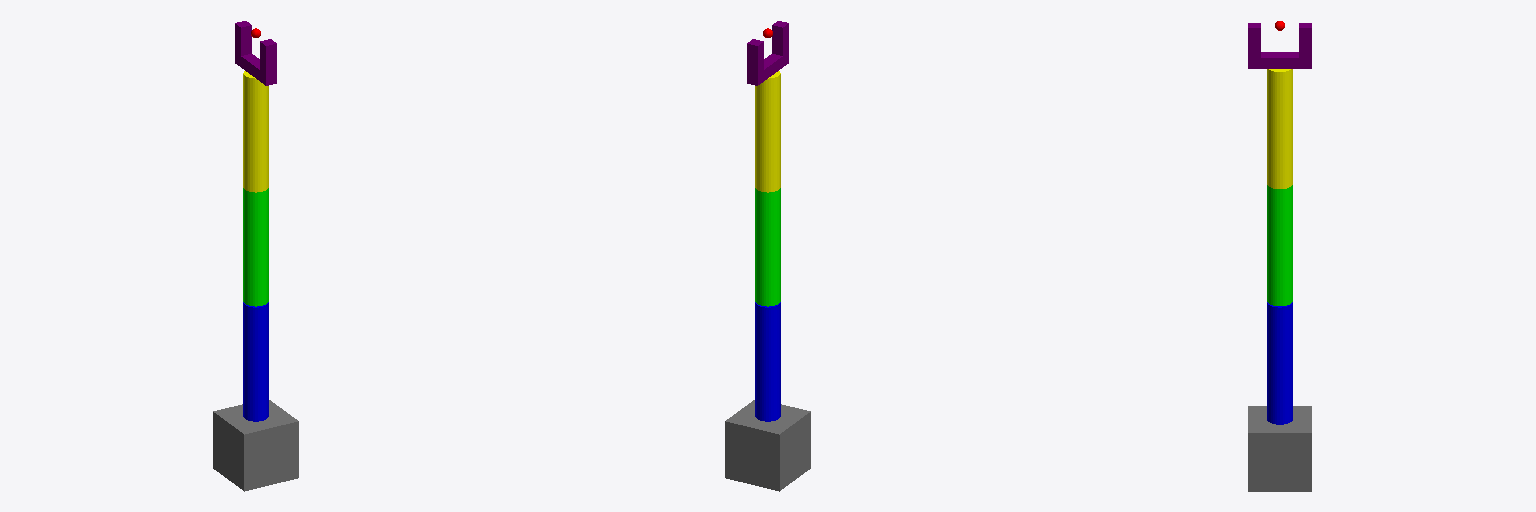
robot.urdf — prrr_manipulator:
<?xml version="1.0"?>
<robot name="prrr_manipulator">

  <!-- Base Link -->
  <link name="base_link">
    <visual>
      <origin xyz="0 0 0" rpy="0 0 0"/>
      <geometry>
        <box size="0.25 0.25 0.25"/>
      </geometry>
      <material name="gray">
        <color rgba="0.5 0.5 0.5 1"/>
      </material>
    </visual>
  </link>

  <!-- Joint -->
  <joint name="revolute1" type="revolute">
    <parent link="base_link"/>
    <child link="link2"/>
    <origin xyz="0 0 0.125" rpy="0 0 0"/>
    <axis xyz="1 0 0"/>
    <limit lower="-3.14" upper="3.14" effort="10" velocity="1"/>
  </joint>

  <!-- Link 2 -->
  <link name="link2">
    <visual>
      <origin xyz="0 0 0.25" rpy="0 0 0"/>
      <geometry>
        <cylinder length="0.5" radius="0.05"/>
      </geometry>
      <material name="blue">
        <color rgba="0 0 1 1"/>
      </material>
    </visual>
    <collision>
      <origin xyz="0 0 0.25" rpy="0 0 0"/>
      <geometry>
        <cylinder length="0.5" radius="0.05"/>
      </geometry>
    </collision>
  </link>

  <!-- Joint -->
  <joint name="prismatic1" type="prismatic">
    <parent link="link2"/>
    <child link="prismatic_link"/>
    <origin xyz="0 0 0.005" rpy="0 0 0"/> <!-- There was a collision issue so I had to space this a bit off the previous link -->
    <axis xyz="0 0 1"/>
    <limit lower="-0.5" upper="0.5" effort="10" velocity="1"/>
  </joint>

  <!-- Link 1 -->
  <link name="prismatic_link">
  </link>  

  <!-- Joint -->
  <joint name="revolute2" type="revolute">
    <parent link="prismatic_link"/>
    <child link="link3"/>
    <origin xyz="0 0 0.5" rpy="0 0 0"/>
    <axis xyz="1 0 0"/>
    <limit lower="-3.14" upper="3.14" effort="10" velocity="1"/>
  </joint>

  <!-- Link 2 -->
  <link name="link3">
    <visual>
      <origin xyz="0 0 0.25" rpy="0 0 0"/>
      <geometry>
        <cylinder length="0.5" radius="0.05"/>
      </geometry>
      <material name="green">
        <color rgba="0 1 0 1"/>
      </material>
    </visual>
    <collision>
      <origin xyz="0 0 0.25" rpy="0 0 0"/>
      <geometry>
        <cylinder length="0.5" radius="0.05"/>
      </geometry>
    </collision>
  </link>

  <!-- Joint -->
  <joint name="revolute3" type="revolute">
    <parent link="link3"/>
    <child link="link4"/>
    <origin xyz="0 0 0.5" rpy="0 0 0"/>
    <axis xyz="1 0 0"/>
    <limit lower="-3.14" upper="3.14" effort="10" velocity="1"/>
  </joint>

  <!-- Link 3 -->
  <link name="link4">
    <visual>
      <origin xyz="0 0 0.25" rpy="0 0 0"/>
      <geometry>
        <cylinder length="0.5" radius="0.05"/>
      </geometry>
      <material name="yellow">
        <color rgba="1 1 0 1"/>
      </material>
    </visual>
    <collision>
      <origin xyz="0 0 0.25" rpy="0 0 0"/>
      <geometry>
        <cylinder length="0.5" radius="0.05"/>
      </geometry>
    </collision>
  </link>

  <!-- Joint -->
  <joint name="fixed1" type="fixed">
    <parent link="link4"/>
    <child link="wrist"/>
    <origin xyz="0 0 0.525" rpy="0 0 1.57"/>
    <axis xyz="0 0 1"/>
    <limit lower="-3.14" upper="3.14" effort="10" velocity="1"/>
  </joint>

  <!-- Wrist Link -->
  <link name="wrist">
    <visual>
      <origin xyz="0 0 0" rpy="0 0 0"/>
      <geometry>
        <box size="0.25 0.05 0.05"/>
      </geometry>
      <material name="purple">
        <color rgba="0.5 0 0.5 1"/>
      </material>
    </visual>
    <collision>
      <origin xyz="0 0 0" rpy="0 0 0"/>
      <geometry>
        <box size="0.25 0.05 0.05"/>
      </geometry>
    </collision>
  </link>

  <!-- Joint -->
  <joint name="fixed2" type="fixed">
    <parent link="wrist"/>
    <child link="left_finger"/>
    <origin xyz="-0.1 0 0.075" rpy="0 0 0"/>
  </joint>

  <!-- Left Finger Link -->
  <link name="left_finger">
    <visual>
      <origin xyz="0 0 0" rpy="0 0 0"/>
      <geometry>
        <box size="0.05 0.05 0.15"/>
      </geometry>
      <material name="purple">
        <color rgba="0.5 0 0.5 1"/>
      </material>
    </visual>
    <collision>
      <origin xyz="0 0 0" rpy="0 0 0"/>
      <geometry>
        <box size="0.05 0.05 0.15"/>
      </geometry>
    </collision>
  </link>

  <!-- Joint -->
  <joint name="fixed3" type="fixed">
    <parent link="wrist"/>
    <child link="right_finger"/>
    <origin xyz="0.1 0 0.075" rpy="0 0 0"/>
  </joint>

  <!-- Right Finger Link -->
  <link name="right_finger">
    <visual>
      <origin xyz="0 0 0" rpy="0 0 0"/>
      <geometry>
        <box size="0.05 0.05 0.15"/>
      </geometry>
      <material name="purple">
        <color rgba="0.5 0 0.5 1"/>
      </material>
    </visual>
    <collision>
      <origin xyz="0 0 0" rpy="0 0 0"/>
      <geometry>
        <box size="0.05 0.05 0.15"/>
      </geometry>
    </collision>
  </link>

  <!-- Center of gripper -->
  <link name="gripper_center">
    <visual>
      <origin xyz="0 0 0.0" rpy="0 0 0"/>
      <geometry>
        <sphere radius="0.02"/> 
      </geometry>
      <material name="red">
        <color rgba="1 0 0 1"/>
      </material>
    </visual>
  </link>

  <!-- Joint -->
  <joint name="fixed4" type="fixed">
    <parent link="wrist"/>
    <child link="gripper_center"/>
    <origin xyz="0 0 0.15" rpy="0 0 0"/>
  </joint>  

</robot>

--- What the picture shows (computed from the rendered views, not written in the file) ---
3 views of the same robot in one strip: view 1: azimuth 30°, elevation 25°; view 2: azimuth 150°, elevation 25°; view 3: azimuth 270°, elevation 25° (orthographic).
Model prrr_manipulator with 9 links and 8 joints (3 revolute, 1 prismatic, 4 fixed), rooted at base_link, posed all joints at 0.
Visible links, largest first — view 1: base_link, link2, link3, link4, wrist, left_finger, right_finger; view 2: base_link, link2, link3, link4, wrist, left_finger, right_finger; view 3: base_link, link4, link2, link3, wrist.
Boxes of the visible links, x1,y1,x2,y2 form: base_link: [213, 400, 298, 491]; link2: [243, 302, 268, 421]; link3: [243, 188, 268, 306]; link4: [243, 71, 268, 192]; wrist: [235, 52, 276, 85]; left_finger: [260, 39, 276, 78]; right_finger: [235, 21, 251, 56]; base_link: [725, 400, 810, 491]; link2: [755, 302, 780, 421]; link3: [755, 188, 780, 306]; link4: [755, 71, 780, 192]; wrist: [747, 54, 788, 85]; left_finger: [772, 21, 788, 60]; right_finger: [747, 39, 763, 78]; base_link: [1248, 406, 1311, 491]; link4: [1267, 69, 1292, 188]; link2: [1267, 302, 1292, 424]; link3: [1267, 185, 1292, 305]; wrist: [1248, 52, 1311, 68].
Size in the robot's own frame: 0.25 by 0.25 by 1.95 metres.
Geometry: primitives only (box / cylinder / sphere), no mesh files.